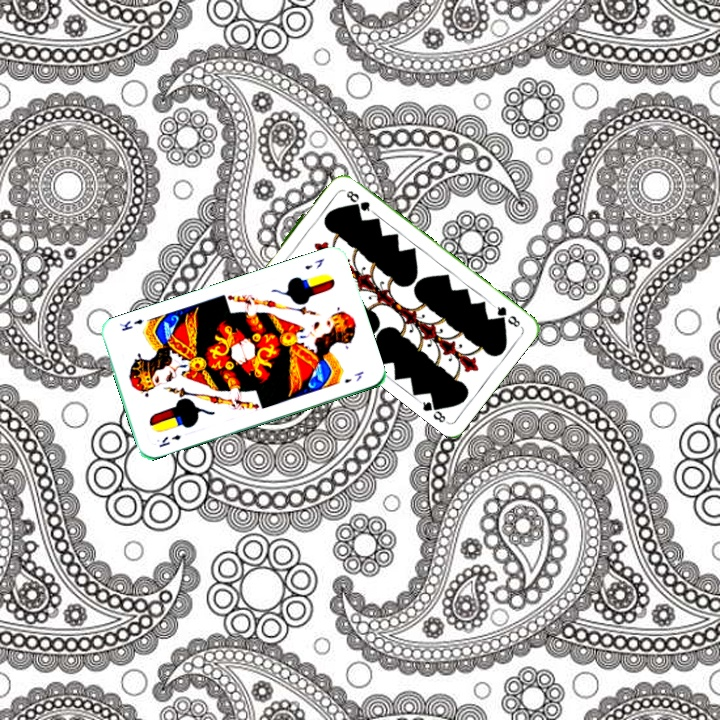EK: (155, 430, 183, 450), (301, 254, 327, 272)
G8: (489, 301, 523, 330)
